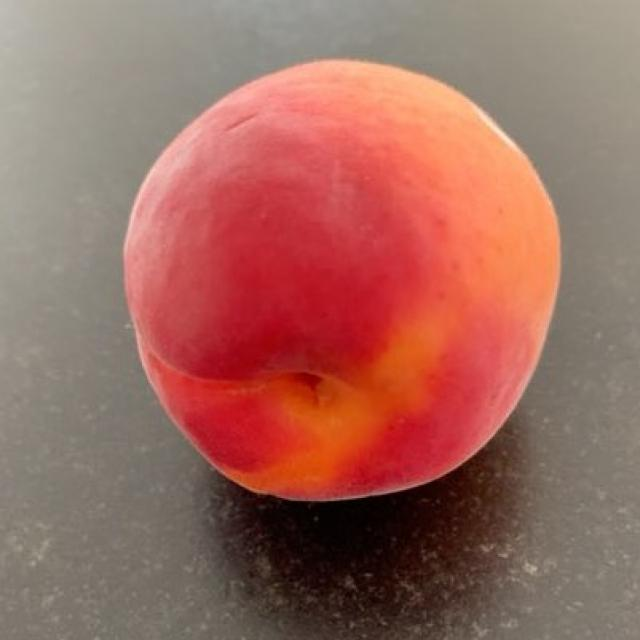nectarine: (129, 65, 552, 493)
